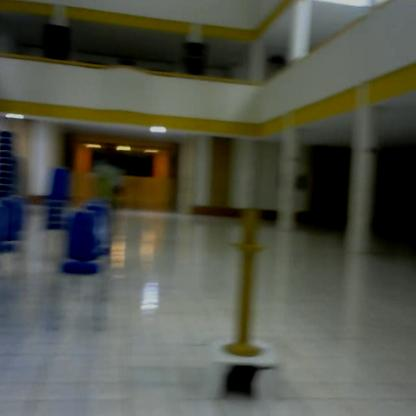pole: (218, 201, 279, 363)
